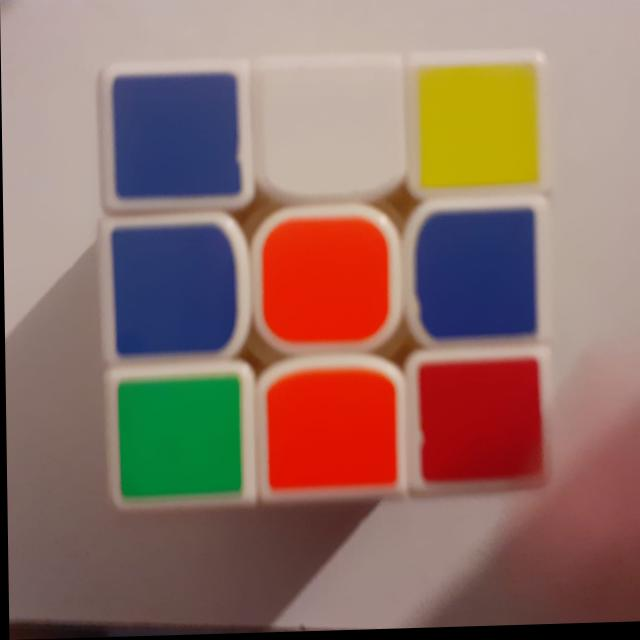Blue: (100, 70, 250, 216), (406, 204, 545, 352), (102, 221, 243, 363)
Green: (106, 369, 254, 513)
Orange: (261, 362, 401, 503), (259, 212, 394, 353)
Red: (410, 355, 550, 497)
White: (256, 62, 401, 203)
Yellow: (409, 56, 544, 194)
